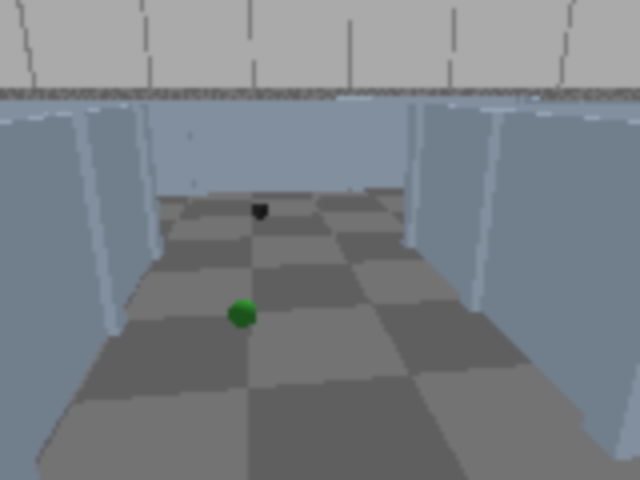puck: (224, 293, 262, 334), (252, 203, 269, 219)
